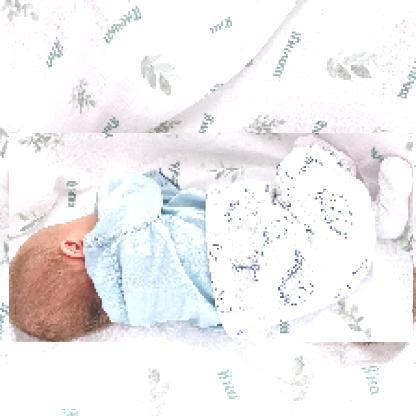child: (10, 135, 415, 345)
